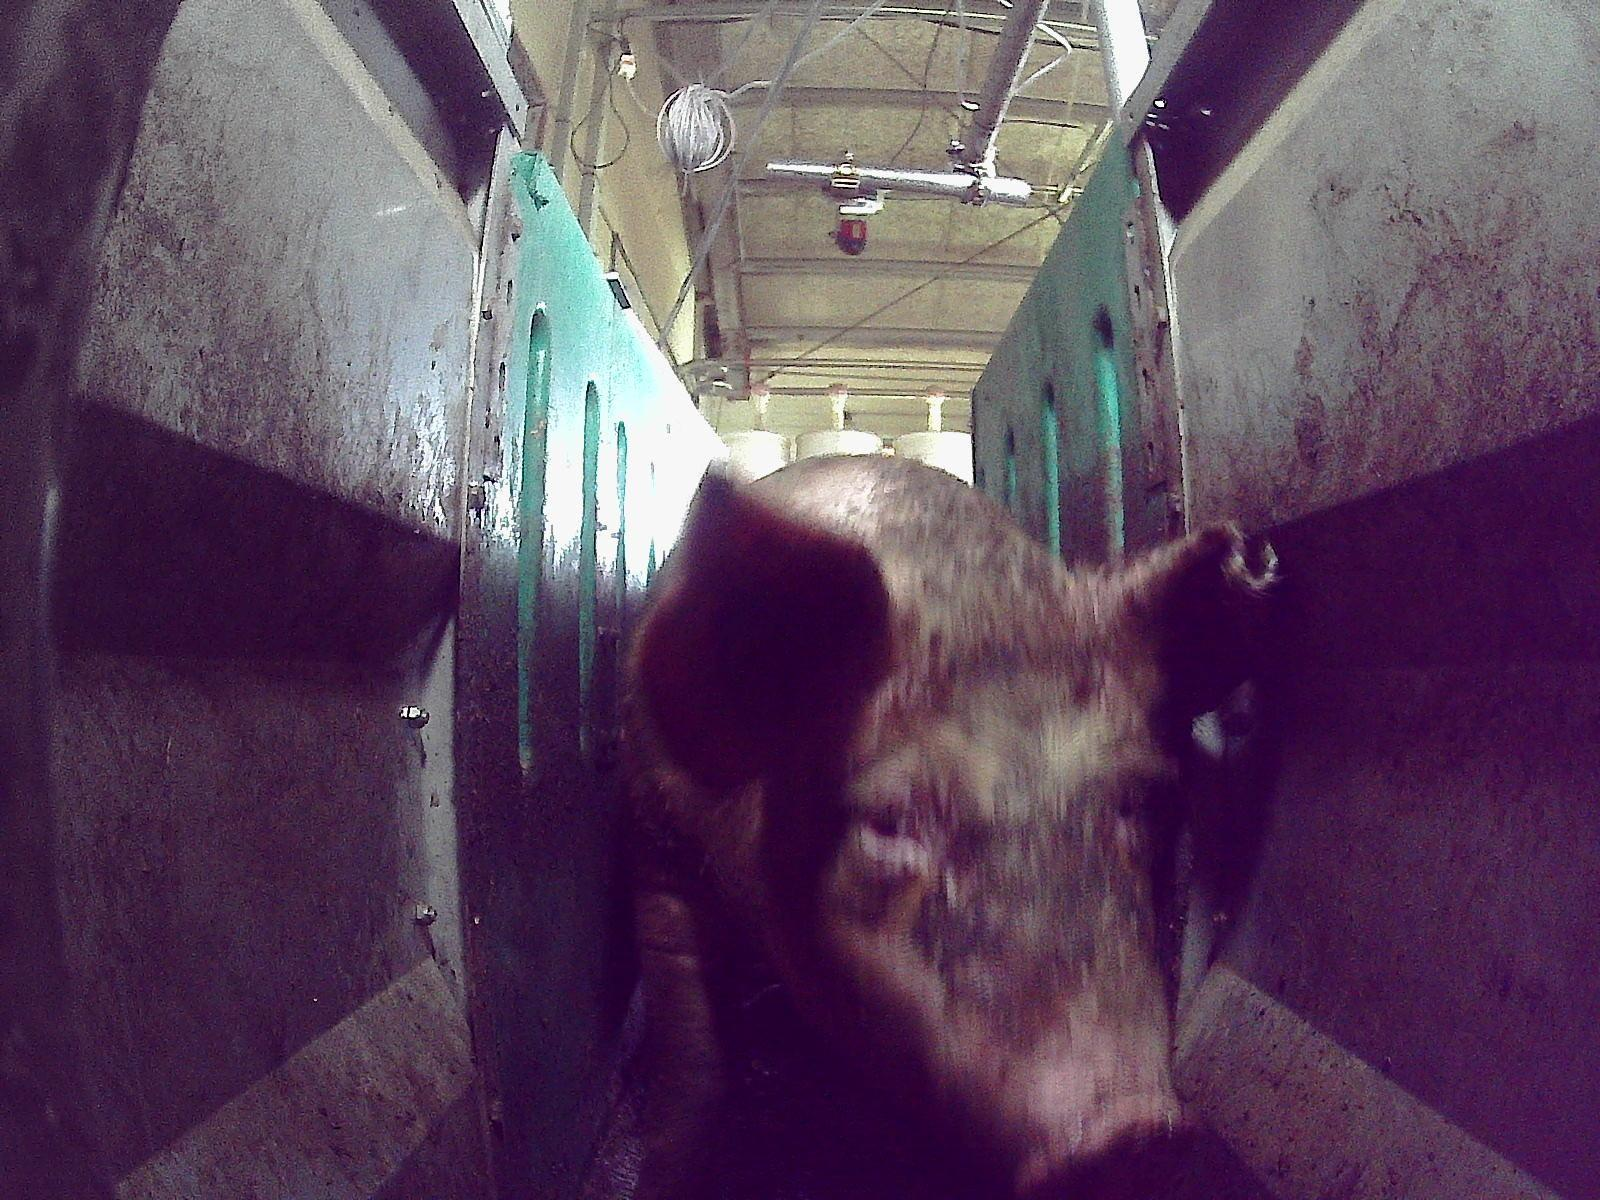Face: (773, 602, 1194, 1199)
